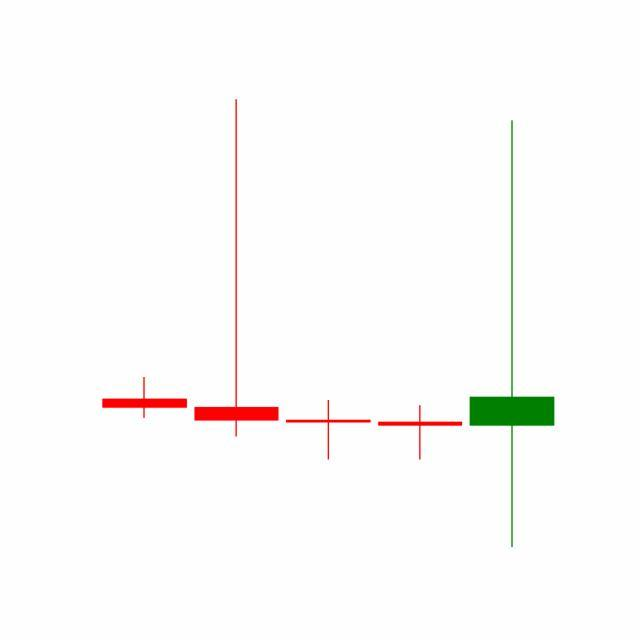Spinning Top: (374, 404, 468, 461)
